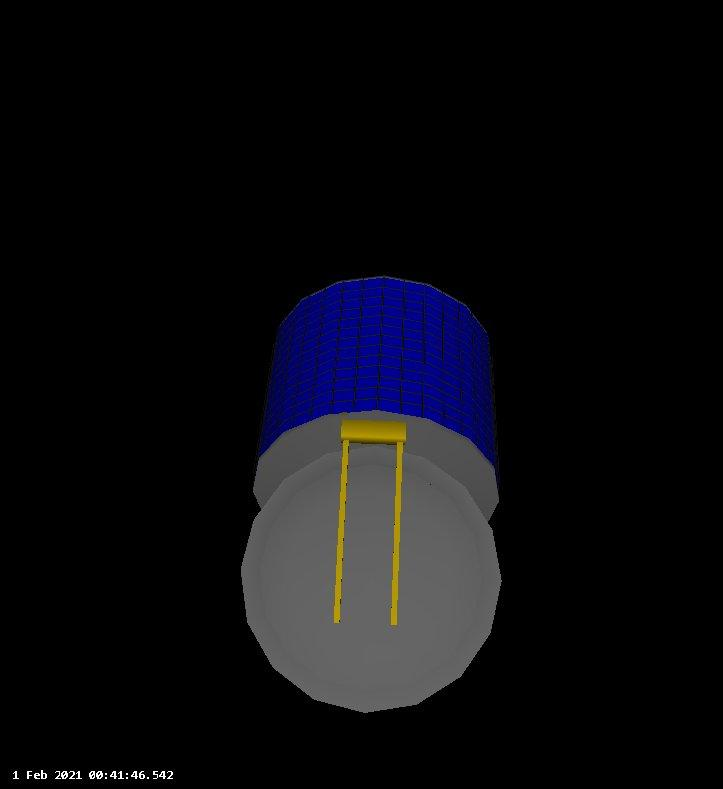antenna: (238, 443, 504, 716)
body: (249, 273, 502, 524)
solar: (253, 274, 503, 467)
